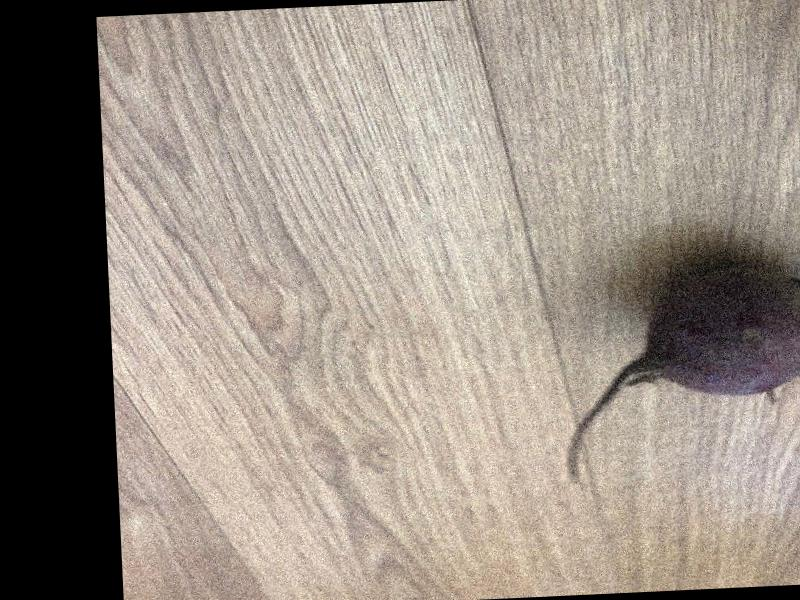Beet: (553, 261, 800, 483)
